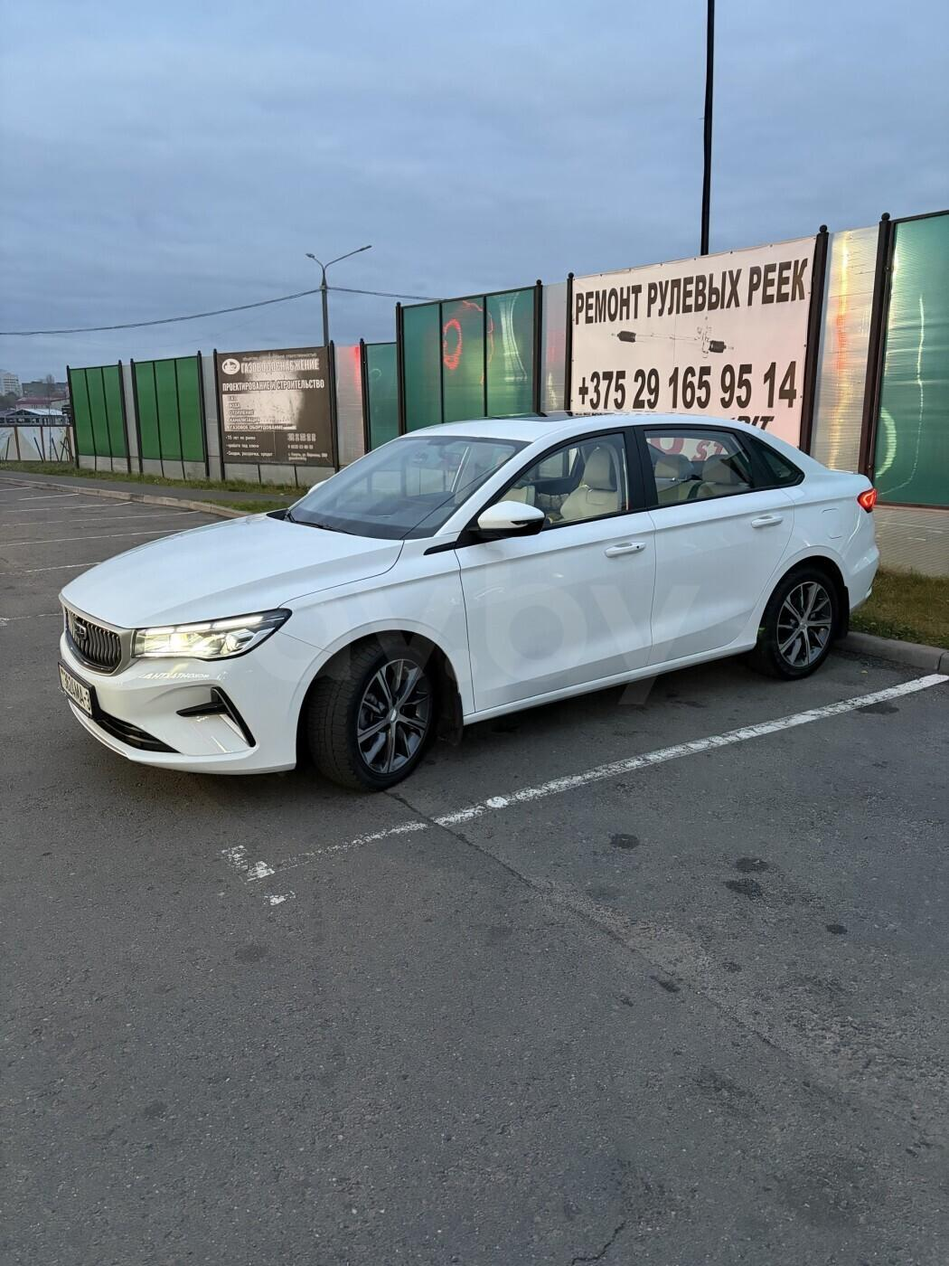Emgrand_2021: (57, 411, 879, 789)
